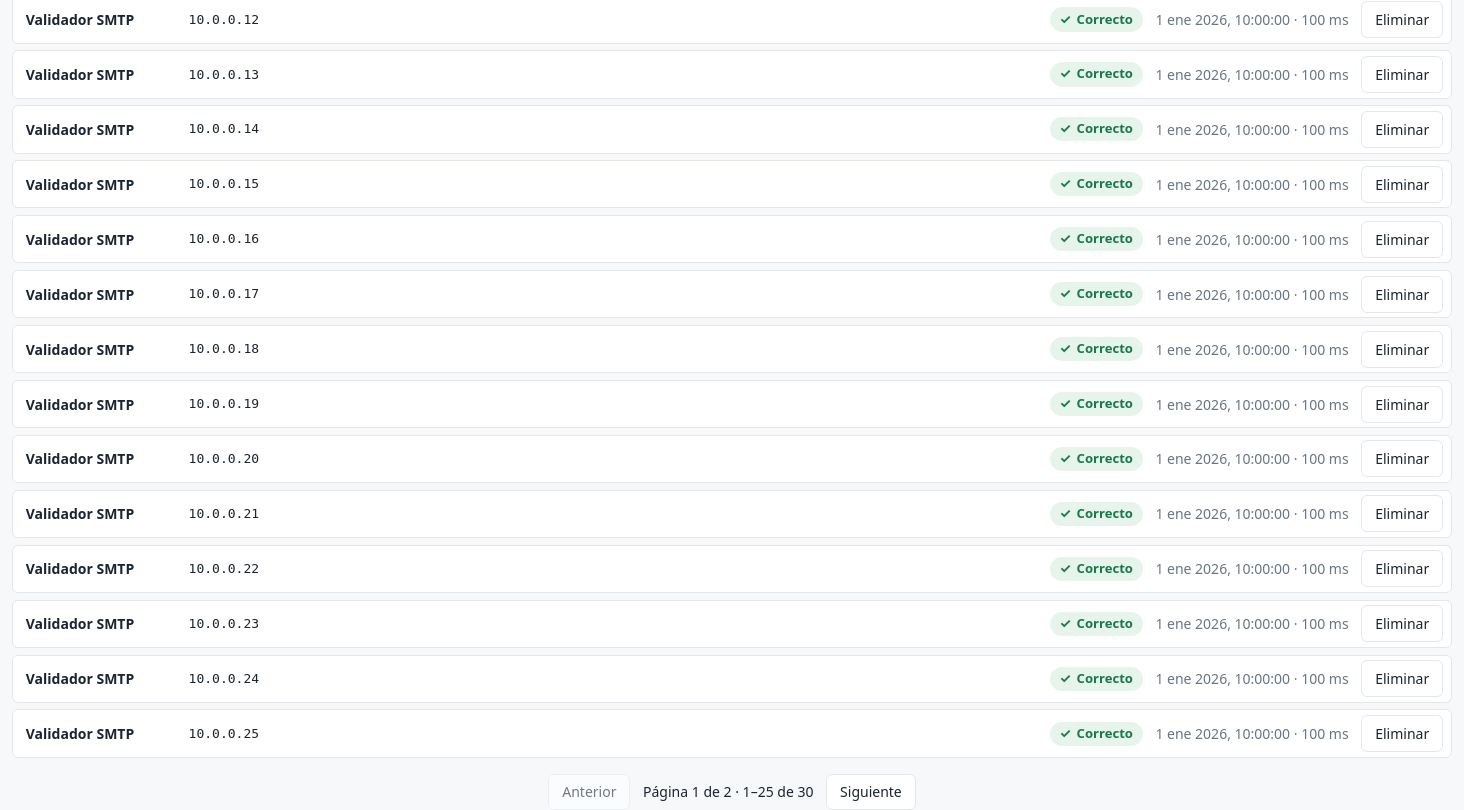
paginación › el botón de "Siguiente" se desactiva en la última página
This screenshot has width=1464, height=810.
(page scrolled)
Click the button "Siguiente": point(871, 792) [826,774,916,809]
(page scrolled)
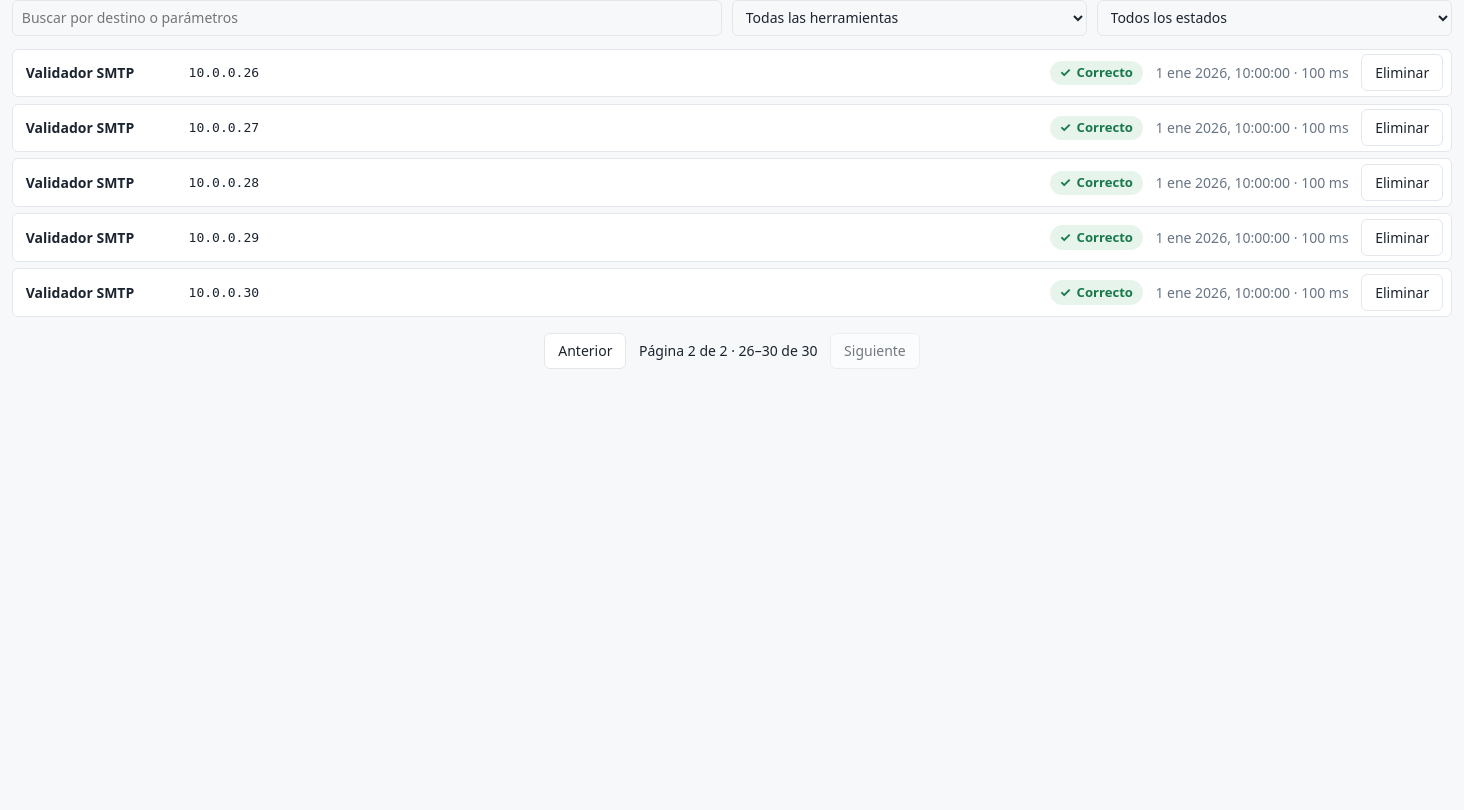
Now the button "Siguiente" is disabled, box [830,333,920,369]
Now the button "Anterior" is enabled, box [544,333,626,369]
